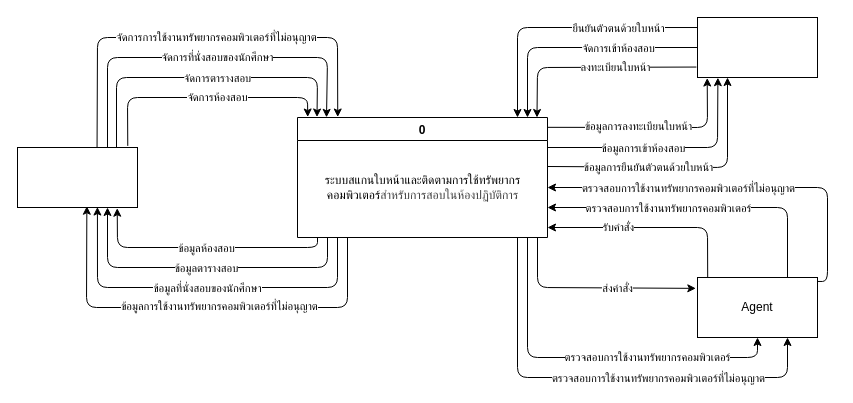
The diagram is 853 pixels wide and 403 high, and some of its shapes have lost their labels. Each missing label, with the box of its shape:
นักศึกษา: (696, 16, 818, 78)
อาจารย์: (16, 146, 138, 208)
